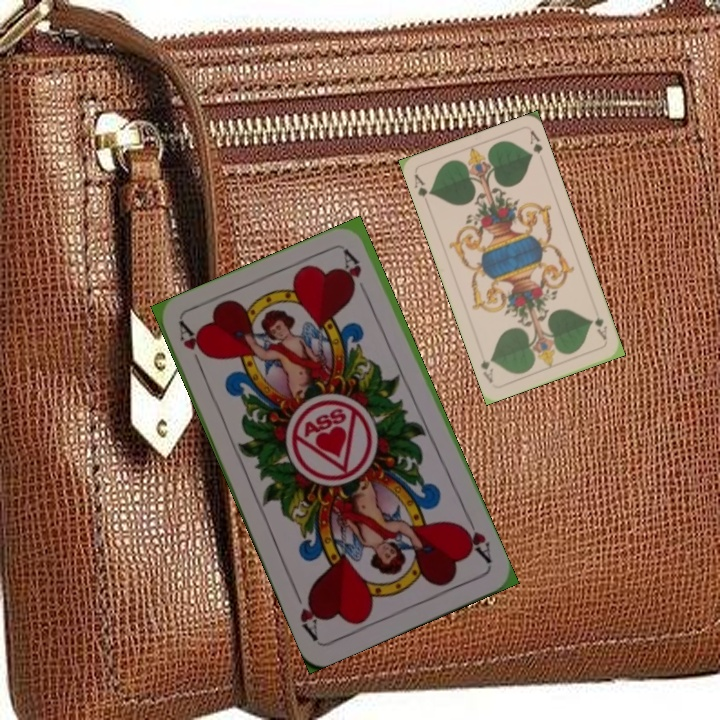GA: (410, 170, 434, 200), (587, 313, 610, 343)
HA: (455, 511, 494, 567), (174, 319, 210, 376)
